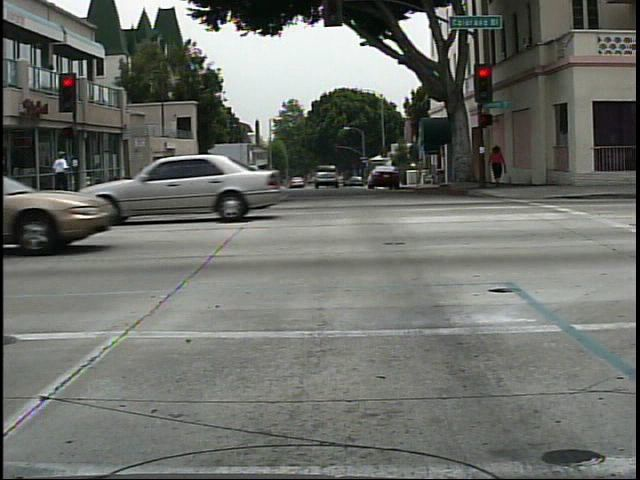person: (46, 143, 75, 197), (488, 140, 512, 193)
